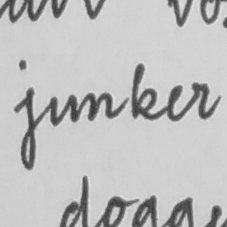e: (163, 81, 186, 124)
j: (11, 85, 44, 172)
k: (128, 60, 161, 123)
n: (84, 88, 116, 125)
r: (187, 79, 220, 122)
u: (46, 90, 80, 129)
